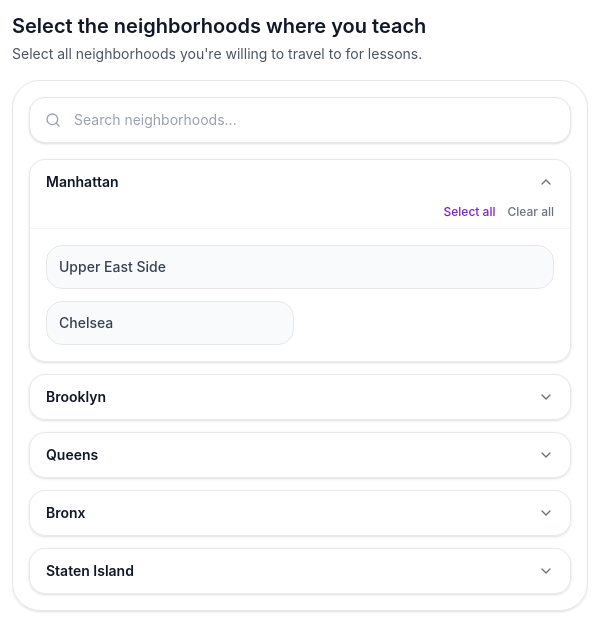
NeighborhoodSelector › supports a single expanded borough in browse mode
Click the button with test id "neighborhood-borough-bronx". click: (66, 512)
box: [46,503,554,523]
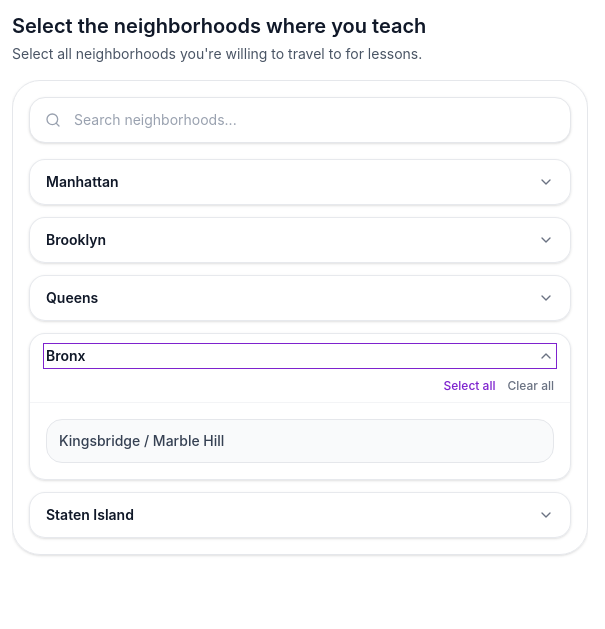
expect the button with test id "neighborhood-borough-bronx" is expanded: met
expect the button with test id "neighborhood-borough-manhattan" is collapsed: met, box [46,172,554,192]
expect the button with test id "neighborhood-chip-ues" is gone: met
Click the button with test id "neighborhood-borough-bronx". click: (66, 356)
box: [46,346,554,366]
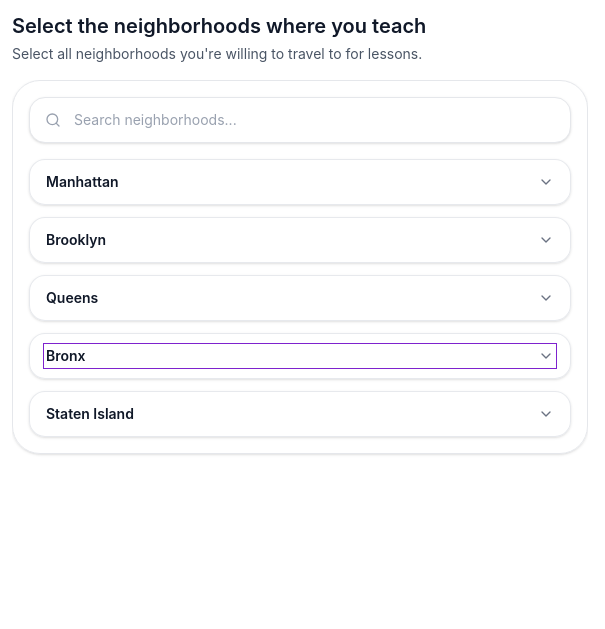
expect the button with test id "neighborhood-borough-bronx" is collapsed: met, box [46,346,554,366]
expect the button with test id "neighborhood-chip-marble" is gone: met
